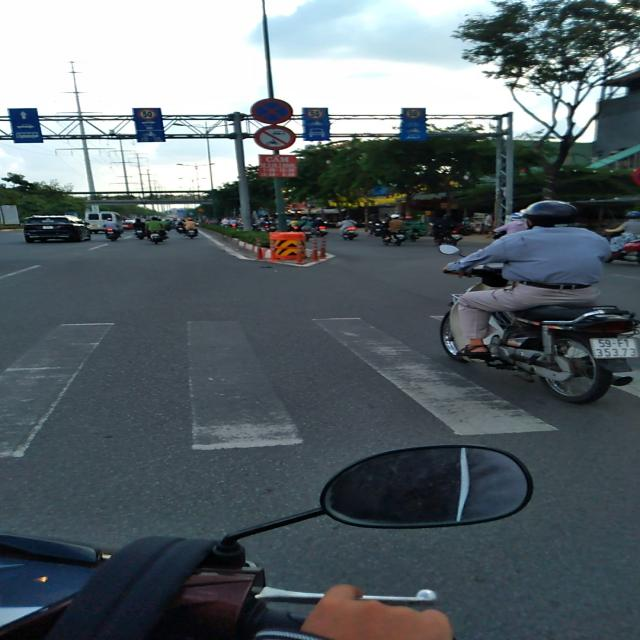Cam con lai: (253, 125, 296, 150)
Cam dung va do: (250, 98, 293, 124)
Toc do toi da: (138, 108, 156, 120), (306, 109, 324, 119), (405, 109, 422, 119)
